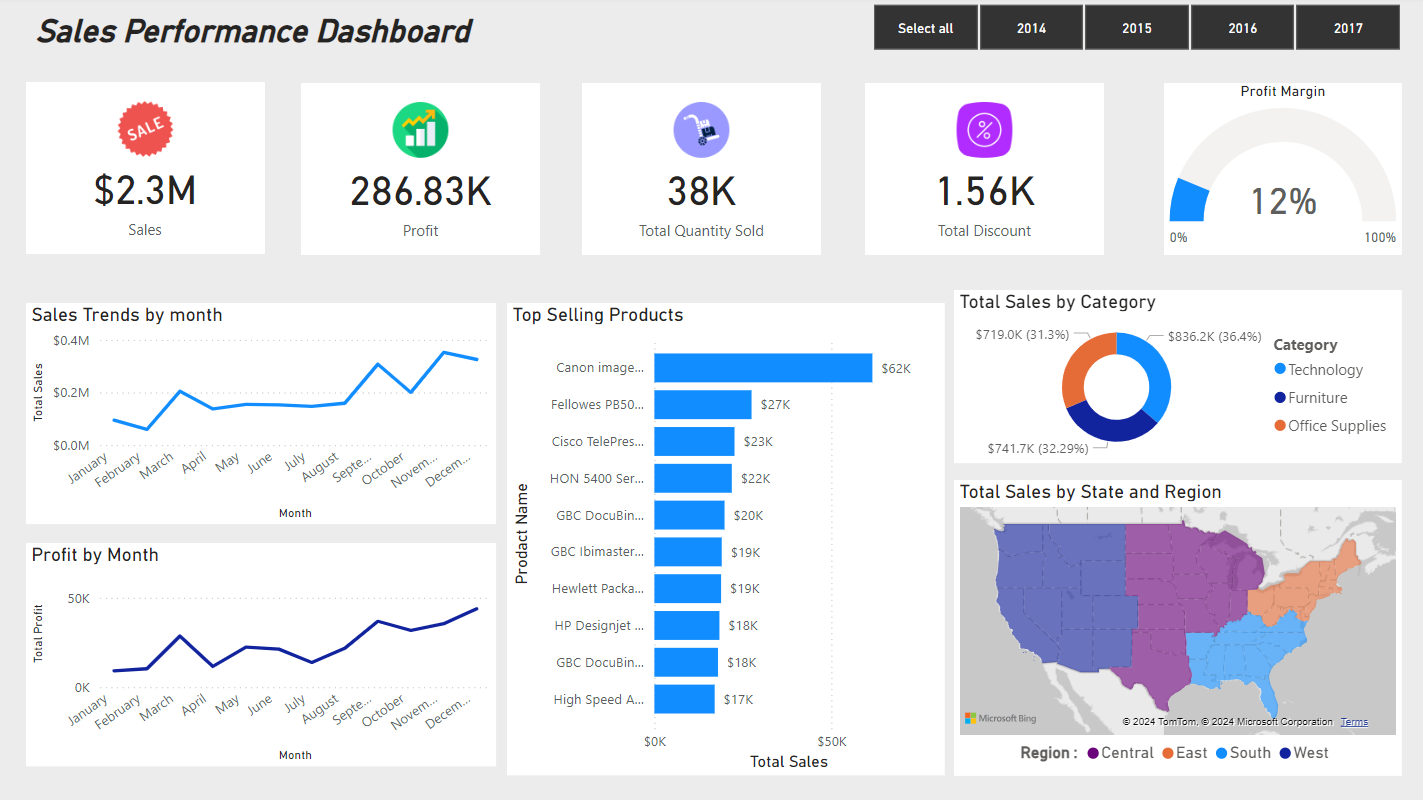

The dashboard page shown, as its layout file describes it:
{"tool":"powerbi","page":{"name":"Page 1","canvas":[1280,720],"ordinal":0},"visuals":[{"type":"textbox","box":[0,0,777.3,60.9],"z":0},{"type":"slicer","title":"Filter by Date","fields":{"Values":["SellesSuperStore.Order_Date.Variation.Date Hierarchy.Year"]},"box":[759,0,521,54.4],"z":1000},{"type":"cardVisual","fields":{"Data":["SellesSuperStore.Total Profit"]},"box":[272,77,214,154],"z":3000},{"type":"cardVisual","fields":{"Data":["SellesSuperStore.Total Quantity Sold"]},"box":[524,77,214,154],"z":4000},{"type":"cardVisual","fields":{"Data":["SellesSuperStore.Total Discount"]},"box":[777,77,214,154],"z":5000},{"type":"gauge","fields":{"Y":["SellesSuperStore.Profit Margin"]},"box":[1045,77,213,154],"z":6000},{"type":"clusteredBarChart","title":"Top Selling Products","fields":{"Y":["SellesSuperStore.Total Sales"],"Category":["SellesSuperStore.Product_Name"]},"box":[456.5,273.9,391.9,423.3],"z":7000},{"type":"lineChart","title":"Sales Trends by month","fields":{"Category":["SellesSuperStore.Order_Date.Variation.Date Hierarchy.Month"],"Y":["SellesSuperStore.Total Sales"]},"box":[25.8,273.9,420.5,198.3],"z":8000},{"type":"filledMap","fields":{"Category":["SellesSuperStore.State"],"Series":["SellesSuperStore.Region"]},"box":[857,432.2,400.9,264.8],"z":9000},{"type":"donutChart","fields":{"Y":["SellesSuperStore.Total Sales"],"Category":["SellesSuperStore.Category"]},"box":[856.7,262.8,401.2,154.9],"z":10000},{"type":"lineChart","title":"Profit by Month","fields":{"Category":["SellesSuperStore.Order_Date.Variation.Date Hierarchy.Month"],"Y":["SellesSuperStore.Total Profit"]},"box":[25.8,488.8,420.5,200.1],"z":11000},{"type":"cardVisual","fields":{"Data":["SellesSuperStore.Total Sales"]},"box":[25.8,76.5,213.9,154],"z":11001}]}

Visuals, with their boxes in screenshot pixels (x1, y1, x2, y2), scaled from the page's 1280x720 canvas onto the 1423x800 screenshot:
textbox: <bbox>0, 0, 864, 68</bbox>
"Filter by Date" slicer: <bbox>844, 0, 1422, 60</bbox>
cardVisual - SellesSuperStore.Total Profit: <bbox>302, 86, 540, 257</bbox>
cardVisual - SellesSuperStore.Total Quantity Sold: <bbox>583, 86, 820, 257</bbox>
cardVisual - SellesSuperStore.Total Discount: <bbox>864, 86, 1102, 257</bbox>
gauge - SellesSuperStore.Profit Margin: <bbox>1162, 86, 1399, 257</bbox>
"Top Selling Products" clusteredBarChart: <bbox>507, 304, 943, 775</bbox>
"Sales Trends by month" lineChart: <bbox>29, 304, 496, 525</bbox>
filledMap - SellesSuperStore.State x SellesSuperStore.Region: <bbox>953, 480, 1398, 774</bbox>
donutChart - SellesSuperStore.Total Sales x SellesSuperStore.Category: <bbox>952, 292, 1398, 464</bbox>
"Profit by Month" lineChart: <bbox>29, 543, 496, 765</bbox>
cardVisual - SellesSuperStore.Total Sales: <bbox>29, 85, 266, 256</bbox>
